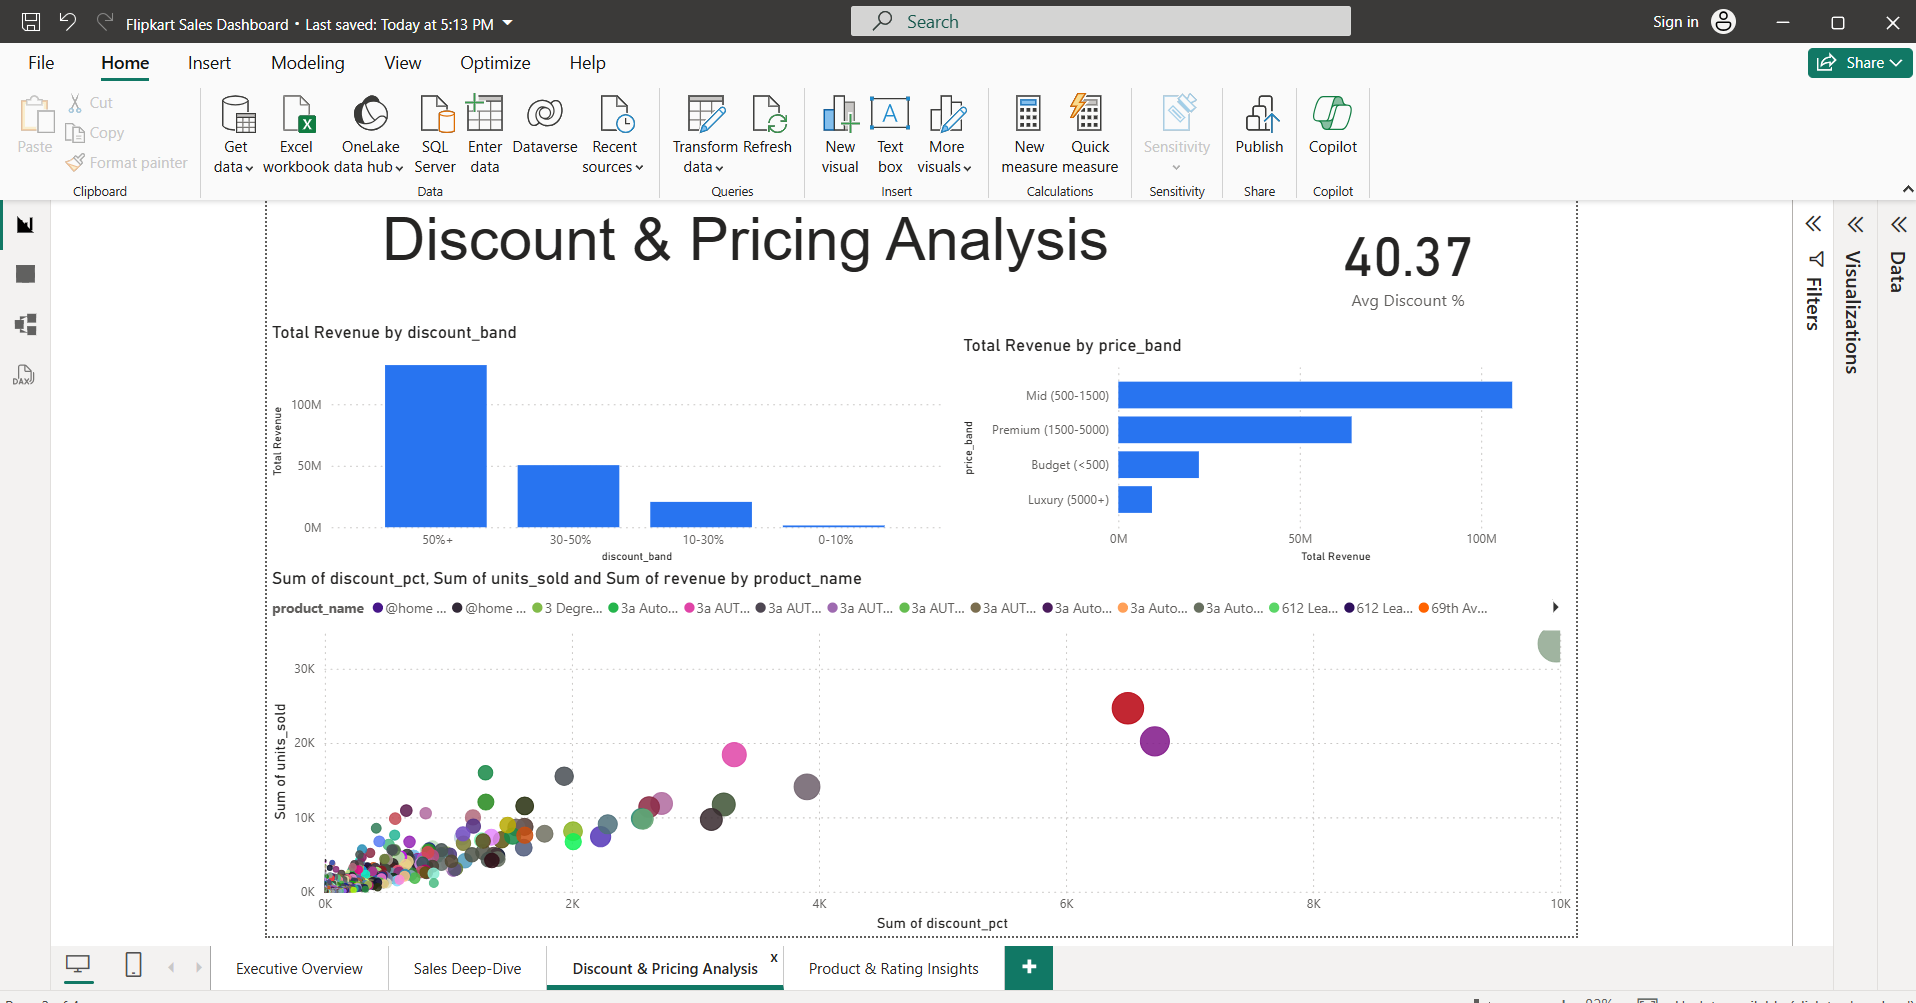

This screenshot's page, from the dashboard's own definition file:
{"tool":"powerbi","page":{"name":"Discount & Pricing Analysis","canvas":[1280,720],"ordinal":2},"visuals":[{"type":"card","fields":{"Values":["flipkart_cleaned.Avg Discount %"]},"box":[952.3,0,328,118],"z":0},{"type":"clusteredBarChart","fields":{"Category":["flipkart_cleaned.price_band"],"Y":["flipkart_cleaned.Total Revenue"]},"box":[676.5,131.7,603.8,227.8],"z":1},{"type":"scatterChart","fields":{"X":["Sum(flipkart_cleaned.discount_pct)"],"Y":["Sum(flipkart_cleaned.units_sold)"],"Series":["flipkart_cleaned.product_name"],"Size":["Sum(flipkart_cleaned.revenue)"]},"box":[0,359.5,1280.3,360.9],"z":2},{"type":"clusteredColumnChart","fields":{"Category":["flipkart_cleaned.discount_band"],"Y":["flipkart_cleaned.Total Revenue"]},"box":[0,118,665.5,241.5],"z":3},{"type":"textbox","box":[0,0,952.3,107],"z":4}]}

Visuals, with their boxes on the page's 1280x720 design canvas (x1, y1, x2, y2). These are canvas units, not pixel positions in the 1916x1003 screenshot, which may show the page scaled, cropped or inside an application window:
card - flipkart_cleaned.Avg Discount %: 952, 0, 1280, 118
clusteredBarChart - flipkart_cleaned.price_band x flipkart_cleaned.Total Revenue: 676, 132, 1280, 360
scatterChart - Sum(flipkart_cleaned.discount_pct) x Sum(flipkart_cleaned.units_sold): 0, 360, 1280, 720
clusteredColumnChart - flipkart_cleaned.discount_band x flipkart_cleaned.Total Revenue: 0, 118, 666, 360
textbox: 0, 0, 952, 107
